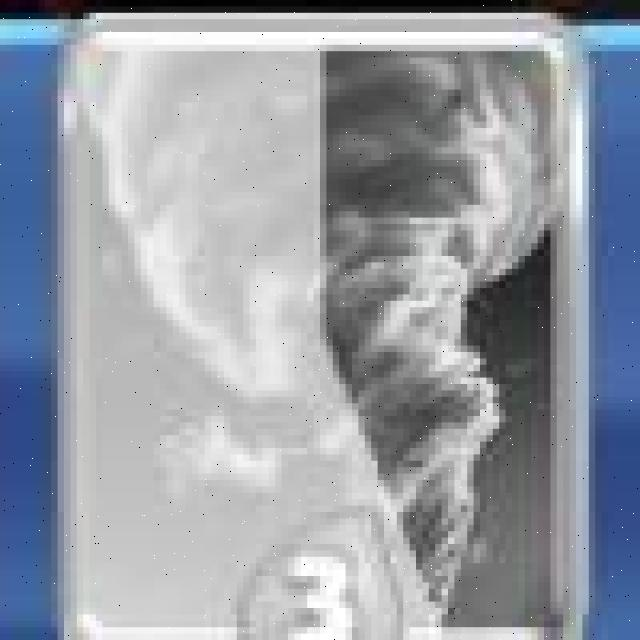Tornado: (62, 14, 596, 640)
